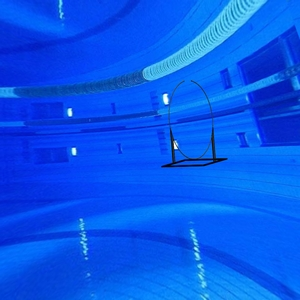circle: (157, 78, 230, 169)
